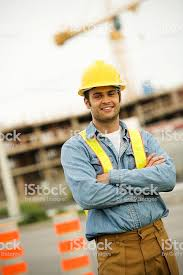Person_wearing_helmet: (73, 50, 130, 106)
